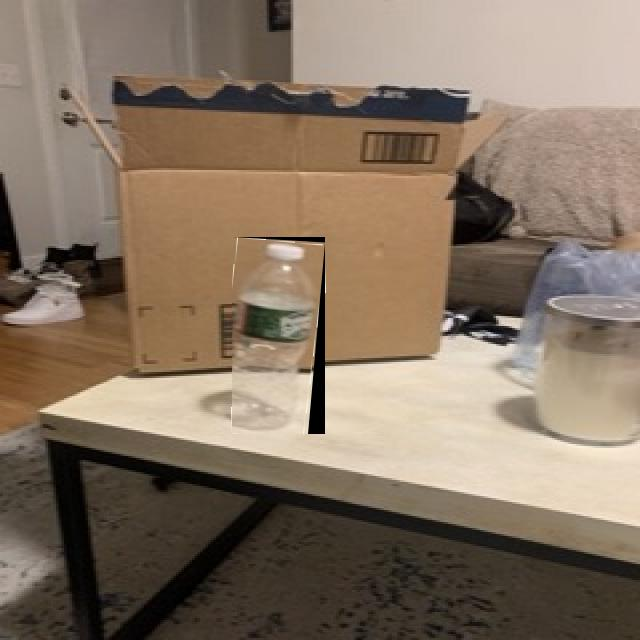water_bottle: (232, 237, 325, 434)
